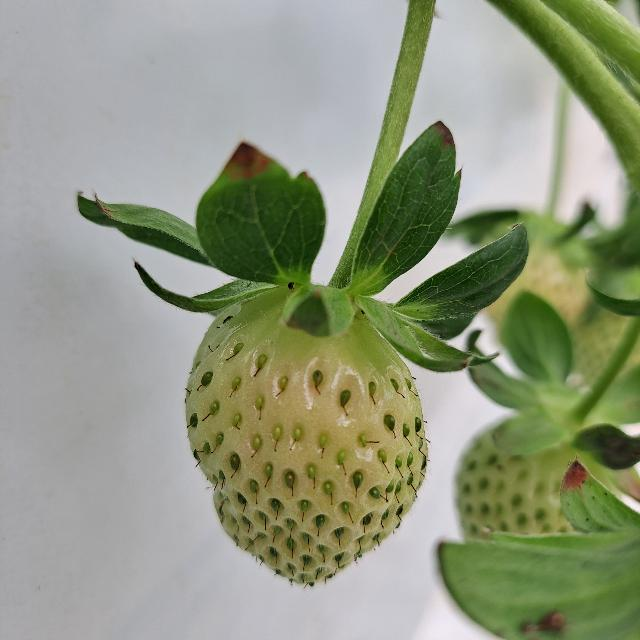Health_25: (185, 284, 428, 584)
